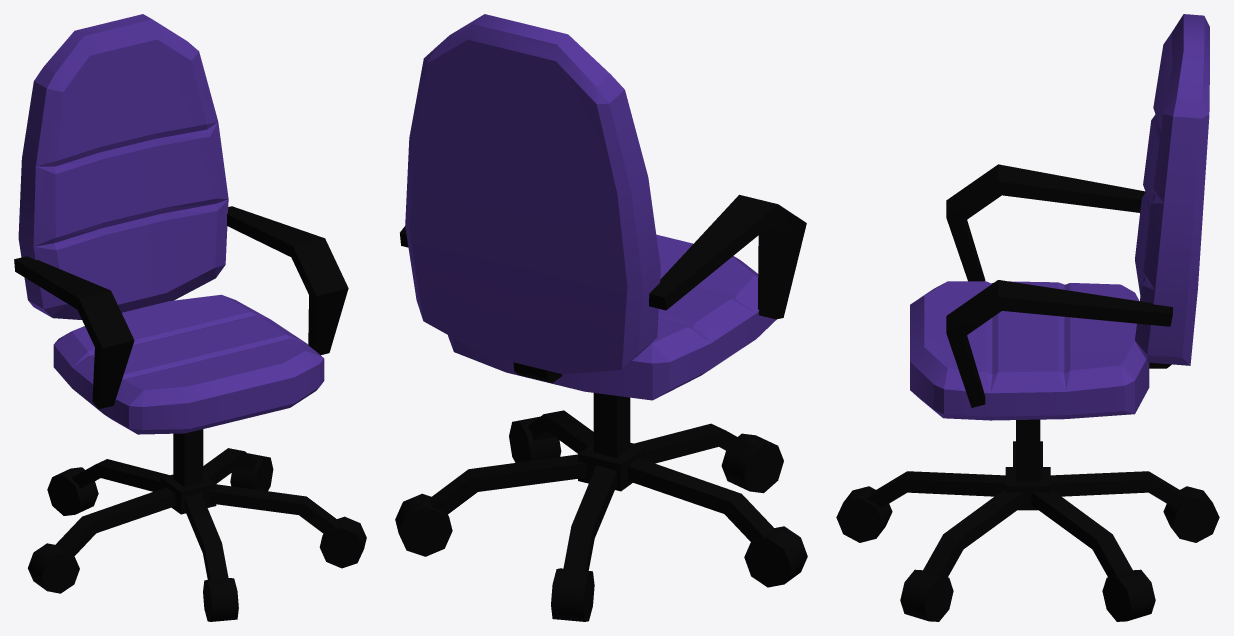
File: pc_chair1.fbx
The picture shows the model from 3 angles, left to right: view 1: azimuth 30°, elevation 25°; view 2: azimuth 150°, elevation 25°; view 3: azimuth 270°, elevation 25°; orthographic projection. The views are drawn at different scales.
Parts seen in each view (by area): view 1: pc_chair1; view 2: pc_chair1; view 3: pc_chair1.
Part boxes in pixels (x1,y1,x2,y2): pc_chair1: (14,14,366,621); pc_chair1: (395,14,807,621); pc_chair1: (836,14,1219,621).
Size of the model in its own units: 61.56 by 98.17 by 64.72.
